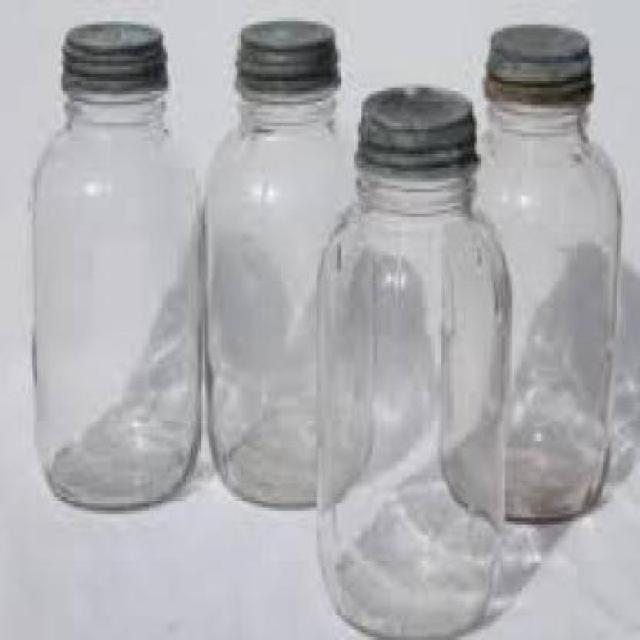kaca: (317, 157, 509, 637), (444, 93, 622, 524), (198, 80, 371, 508), (28, 88, 195, 508)
